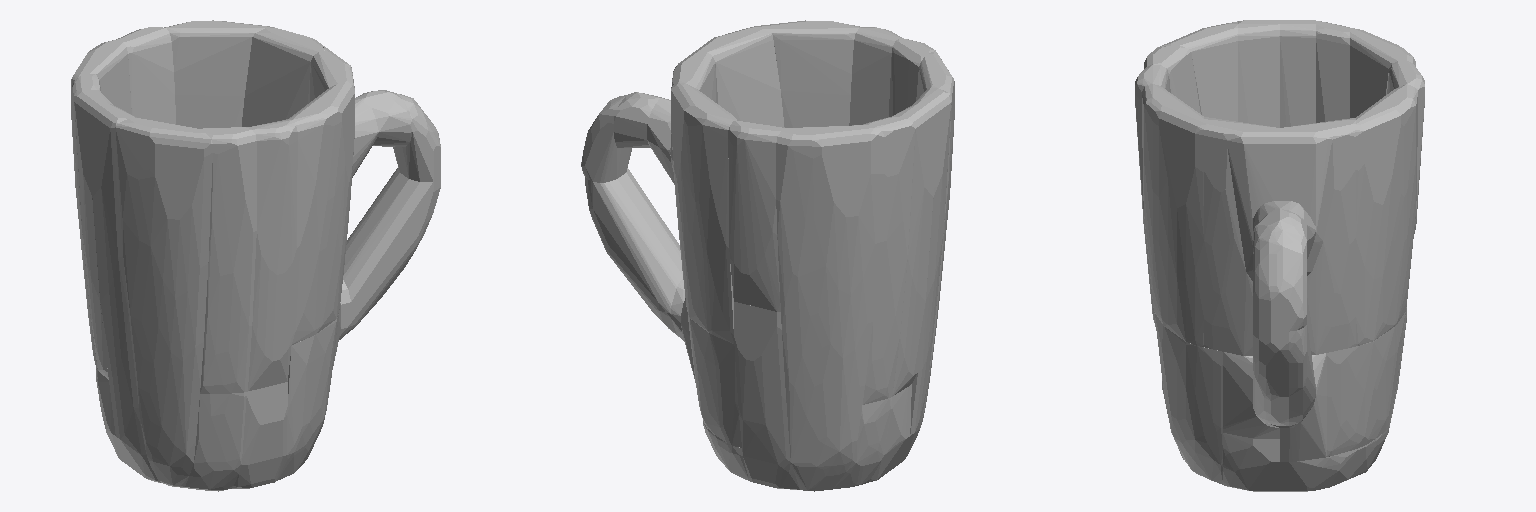
robot.urdf — root:
<robot name="root">
  <link name="body">
    <visual>
      <origin xyz="0 0 0" rpy="0 0 0"/>
      <geometry>
        <mesh filename="coacd_convex_piece_0.obj" scale="1.0000E+00 1.0000E+00 1.0000E+00"/>
      </geometry>
      <material name="">
        <color rgba="7.50E-01 7.50E-01 7.50E-01 1"/>
      </material>
    </visual>
    <collision>
      <origin xyz="0 0 0" rpy="0 0 0"/>
      <geometry>
        <mesh filename="coacd_convex_piece_0.obj" scale="1.0000E+00 1.0000E+00 1.0000E+00"/>
      </geometry>
    </collision>
    <visual>
      <origin xyz="0 0 0" rpy="0 0 0"/>
      <geometry>
        <mesh filename="coacd_convex_piece_1.obj" scale="1.0000E+00 1.0000E+00 1.0000E+00"/>
      </geometry>
      <material name="">
        <color rgba="7.50E-01 7.50E-01 7.50E-01 1"/>
      </material>
    </visual>
    <collision>
      <origin xyz="0 0 0" rpy="0 0 0"/>
      <geometry>
        <mesh filename="coacd_convex_piece_1.obj" scale="1.0000E+00 1.0000E+00 1.0000E+00"/>
      </geometry>
    </collision>
    <visual>
      <origin xyz="0 0 0" rpy="0 0 0"/>
      <geometry>
        <mesh filename="coacd_convex_piece_2.obj" scale="1.0000E+00 1.0000E+00 1.0000E+00"/>
      </geometry>
      <material name="">
        <color rgba="7.50E-01 7.50E-01 7.50E-01 1"/>
      </material>
    </visual>
    <collision>
      <origin xyz="0 0 0" rpy="0 0 0"/>
      <geometry>
        <mesh filename="coacd_convex_piece_2.obj" scale="1.0000E+00 1.0000E+00 1.0000E+00"/>
      </geometry>
    </collision>
    <visual>
      <origin xyz="0 0 0" rpy="0 0 0"/>
      <geometry>
        <mesh filename="coacd_convex_piece_3.obj" scale="1.0000E+00 1.0000E+00 1.0000E+00"/>
      </geometry>
      <material name="">
        <color rgba="7.50E-01 7.50E-01 7.50E-01 1"/>
      </material>
    </visual>
    <collision>
      <origin xyz="0 0 0" rpy="0 0 0"/>
      <geometry>
        <mesh filename="coacd_convex_piece_3.obj" scale="1.0000E+00 1.0000E+00 1.0000E+00"/>
      </geometry>
    </collision>
    <visual>
      <origin xyz="0 0 0" rpy="0 0 0"/>
      <geometry>
        <mesh filename="coacd_convex_piece_4.obj" scale="1.0000E+00 1.0000E+00 1.0000E+00"/>
      </geometry>
      <material name="">
        <color rgba="7.50E-01 7.50E-01 7.50E-01 1"/>
      </material>
    </visual>
    <collision>
      <origin xyz="0 0 0" rpy="0 0 0"/>
      <geometry>
        <mesh filename="coacd_convex_piece_4.obj" scale="1.0000E+00 1.0000E+00 1.0000E+00"/>
      </geometry>
    </collision>
    <visual>
      <origin xyz="0 0 0" rpy="0 0 0"/>
      <geometry>
        <mesh filename="coacd_convex_piece_5.obj" scale="1.0000E+00 1.0000E+00 1.0000E+00"/>
      </geometry>
      <material name="">
        <color rgba="7.50E-01 7.50E-01 7.50E-01 1"/>
      </material>
    </visual>
    <collision>
      <origin xyz="0 0 0" rpy="0 0 0"/>
      <geometry>
        <mesh filename="coacd_convex_piece_5.obj" scale="1.0000E+00 1.0000E+00 1.0000E+00"/>
      </geometry>
    </collision>
    <visual>
      <origin xyz="0 0 0" rpy="0 0 0"/>
      <geometry>
        <mesh filename="coacd_convex_piece_6.obj" scale="1.0000E+00 1.0000E+00 1.0000E+00"/>
      </geometry>
      <material name="">
        <color rgba="7.50E-01 7.50E-01 7.50E-01 1"/>
      </material>
    </visual>
    <collision>
      <origin xyz="0 0 0" rpy="0 0 0"/>
      <geometry>
        <mesh filename="coacd_convex_piece_6.obj" scale="1.0000E+00 1.0000E+00 1.0000E+00"/>
      </geometry>
    </collision>
    <visual>
      <origin xyz="0 0 0" rpy="0 0 0"/>
      <geometry>
        <mesh filename="coacd_convex_piece_7.obj" scale="1.0000E+00 1.0000E+00 1.0000E+00"/>
      </geometry>
      <material name="">
        <color rgba="7.50E-01 7.50E-01 7.50E-01 1"/>
      </material>
    </visual>
    <collision>
      <origin xyz="0 0 0" rpy="0 0 0"/>
      <geometry>
        <mesh filename="coacd_convex_piece_7.obj" scale="1.0000E+00 1.0000E+00 1.0000E+00"/>
      </geometry>
    </collision>
    <visual>
      <origin xyz="0 0 0" rpy="0 0 0"/>
      <geometry>
        <mesh filename="coacd_convex_piece_8.obj" scale="1.0000E+00 1.0000E+00 1.0000E+00"/>
      </geometry>
      <material name="">
        <color rgba="7.50E-01 7.50E-01 7.50E-01 1"/>
      </material>
    </visual>
    <collision>
      <origin xyz="0 0 0" rpy="0 0 0"/>
      <geometry>
        <mesh filename="coacd_convex_piece_8.obj" scale="1.0000E+00 1.0000E+00 1.0000E+00"/>
      </geometry>
    </collision>
    <visual>
      <origin xyz="0 0 0" rpy="0 0 0"/>
      <geometry>
        <mesh filename="coacd_convex_piece_9.obj" scale="1.0000E+00 1.0000E+00 1.0000E+00"/>
      </geometry>
      <material name="">
        <color rgba="7.50E-01 7.50E-01 7.50E-01 1"/>
      </material>
    </visual>
    <collision>
      <origin xyz="0 0 0" rpy="0 0 0"/>
      <geometry>
        <mesh filename="coacd_convex_piece_9.obj" scale="1.0000E+00 1.0000E+00 1.0000E+00"/>
      </geometry>
    </collision>
    <visual>
      <origin xyz="0 0 0" rpy="0 0 0"/>
      <geometry>
        <mesh filename="coacd_convex_piece_10.obj" scale="1.0000E+00 1.0000E+00 1.0000E+00"/>
      </geometry>
      <material name="">
        <color rgba="7.50E-01 7.50E-01 7.50E-01 1"/>
      </material>
    </visual>
    <collision>
      <origin xyz="0 0 0" rpy="0 0 0"/>
      <geometry>
        <mesh filename="coacd_convex_piece_10.obj" scale="1.0000E+00 1.0000E+00 1.0000E+00"/>
      </geometry>
    </collision>
    <visual>
      <origin xyz="0 0 0" rpy="0 0 0"/>
      <geometry>
        <mesh filename="coacd_convex_piece_11.obj" scale="1.0000E+00 1.0000E+00 1.0000E+00"/>
      </geometry>
      <material name="">
        <color rgba="7.50E-01 7.50E-01 7.50E-01 1"/>
      </material>
    </visual>
    <collision>
      <origin xyz="0 0 0" rpy="0 0 0"/>
      <geometry>
        <mesh filename="coacd_convex_piece_11.obj" scale="1.0000E+00 1.0000E+00 1.0000E+00"/>
      </geometry>
    </collision>
    <visual>
      <origin xyz="0 0 0" rpy="0 0 0"/>
      <geometry>
        <mesh filename="coacd_convex_piece_12.obj" scale="1.0000E+00 1.0000E+00 1.0000E+00"/>
      </geometry>
      <material name="">
        <color rgba="7.50E-01 7.50E-01 7.50E-01 1"/>
      </material>
    </visual>
    <collision>
      <origin xyz="0 0 0" rpy="0 0 0"/>
      <geometry>
        <mesh filename="coacd_convex_piece_12.obj" scale="1.0000E+00 1.0000E+00 1.0000E+00"/>
      </geometry>
    </collision>
    <visual>
      <origin xyz="0 0 0" rpy="0 0 0"/>
      <geometry>
        <mesh filename="coacd_convex_piece_13.obj" scale="1.0000E+00 1.0000E+00 1.0000E+00"/>
      </geometry>
      <material name="">
        <color rgba="7.50E-01 7.50E-01 7.50E-01 1"/>
      </material>
    </visual>
    <collision>
      <origin xyz="0 0 0" rpy="0 0 0"/>
      <geometry>
        <mesh filename="coacd_convex_piece_13.obj" scale="1.0000E+00 1.0000E+00 1.0000E+00"/>
      </geometry>
    </collision>
    <visual>
      <origin xyz="0 0 0" rpy="0 0 0"/>
      <geometry>
        <mesh filename="coacd_convex_piece_14.obj" scale="1.0000E+00 1.0000E+00 1.0000E+00"/>
      </geometry>
      <material name="">
        <color rgba="7.50E-01 7.50E-01 7.50E-01 1"/>
      </material>
    </visual>
    <collision>
      <origin xyz="0 0 0" rpy="0 0 0"/>
      <geometry>
        <mesh filename="coacd_convex_piece_14.obj" scale="1.0000E+00 1.0000E+00 1.0000E+00"/>
      </geometry>
    </collision>
    <visual>
      <origin xyz="0 0 0" rpy="0 0 0"/>
      <geometry>
        <mesh filename="coacd_convex_piece_15.obj" scale="1.0000E+00 1.0000E+00 1.0000E+00"/>
      </geometry>
      <material name="">
        <color rgba="7.50E-01 7.50E-01 7.50E-01 1"/>
      </material>
    </visual>
    <collision>
      <origin xyz="0 0 0" rpy="0 0 0"/>
      <geometry>
        <mesh filename="coacd_convex_piece_15.obj" scale="1.0000E+00 1.0000E+00 1.0000E+00"/>
      </geometry>
    </collision>
    <visual>
      <origin xyz="0 0 0" rpy="0 0 0"/>
      <geometry>
        <mesh filename="coacd_convex_piece_16.obj" scale="1.0000E+00 1.0000E+00 1.0000E+00"/>
      </geometry>
      <material name="">
        <color rgba="7.50E-01 7.50E-01 7.50E-01 1"/>
      </material>
    </visual>
    <collision>
      <origin xyz="0 0 0" rpy="0 0 0"/>
      <geometry>
        <mesh filename="coacd_convex_piece_16.obj" scale="1.0000E+00 1.0000E+00 1.0000E+00"/>
      </geometry>
    </collision>
    <visual>
      <origin xyz="0 0 0" rpy="0 0 0"/>
      <geometry>
        <mesh filename="coacd_convex_piece_17.obj" scale="1.0000E+00 1.0000E+00 1.0000E+00"/>
      </geometry>
      <material name="">
        <color rgba="7.50E-01 7.50E-01 7.50E-01 1"/>
      </material>
    </visual>
    <collision>
      <origin xyz="0 0 0" rpy="0 0 0"/>
      <geometry>
        <mesh filename="coacd_convex_piece_17.obj" scale="1.0000E+00 1.0000E+00 1.0000E+00"/>
      </geometry>
    </collision>
    <visual>
      <origin xyz="0 0 0" rpy="0 0 0"/>
      <geometry>
        <mesh filename="coacd_convex_piece_18.obj" scale="1.0000E+00 1.0000E+00 1.0000E+00"/>
      </geometry>
      <material name="">
        <color rgba="7.50E-01 7.50E-01 7.50E-01 1"/>
      </material>
    </visual>
    <collision>
      <origin xyz="0 0 0" rpy="0 0 0"/>
      <geometry>
        <mesh filename="coacd_convex_piece_18.obj" scale="1.0000E+00 1.0000E+00 1.0000E+00"/>
      </geometry>
    </collision>
    <visual>
      <origin xyz="0 0 0" rpy="0 0 0"/>
      <geometry>
        <mesh filename="coacd_convex_piece_19.obj" scale="1.0000E+00 1.0000E+00 1.0000E+00"/>
      </geometry>
      <material name="">
        <color rgba="7.50E-01 7.50E-01 7.50E-01 1"/>
      </material>
    </visual>
    <collision>
      <origin xyz="0 0 0" rpy="0 0 0"/>
      <geometry>
        <mesh filename="coacd_convex_piece_19.obj" scale="1.0000E+00 1.0000E+00 1.0000E+00"/>
      </geometry>
    </collision>
    <visual>
      <origin xyz="0 0 0" rpy="0 0 0"/>
      <geometry>
        <mesh filename="coacd_convex_piece_20.obj" scale="1.0000E+00 1.0000E+00 1.0000E+00"/>
      </geometry>
      <material name="">
        <color rgba="7.50E-01 7.50E-01 7.50E-01 1"/>
      </material>
    </visual>
    <collision>
      <origin xyz="0 0 0" rpy="0 0 0"/>
      <geometry>
        <mesh filename="coacd_convex_piece_20.obj" scale="1.0000E+00 1.0000E+00 1.0000E+00"/>
      </geometry>
    </collision>
    <visual>
      <origin xyz="0 0 0" rpy="0 0 0"/>
      <geometry>
        <mesh filename="coacd_convex_piece_21.obj" scale="1.0000E+00 1.0000E+00 1.0000E+00"/>
      </geometry>
      <material name="">
        <color rgba="7.50E-01 7.50E-01 7.50E-01 1"/>
      </material>
    </visual>
    <collision>
      <origin xyz="0 0 0" rpy="0 0 0"/>
      <geometry>
        <mesh filename="coacd_convex_piece_21.obj" scale="1.0000E+00 1.0000E+00 1.0000E+00"/>
      </geometry>
    </collision>
    <visual>
      <origin xyz="0 0 0" rpy="0 0 0"/>
      <geometry>
        <mesh filename="coacd_convex_piece_22.obj" scale="1.0000E+00 1.0000E+00 1.0000E+00"/>
      </geometry>
      <material name="">
        <color rgba="7.50E-01 7.50E-01 7.50E-01 1"/>
      </material>
    </visual>
    <collision>
      <origin xyz="0 0 0" rpy="0 0 0"/>
      <geometry>
        <mesh filename="coacd_convex_piece_22.obj" scale="1.0000E+00 1.0000E+00 1.0000E+00"/>
      </geometry>
    </collision>
    <visual>
      <origin xyz="0 0 0" rpy="0 0 0"/>
      <geometry>
        <mesh filename="coacd_convex_piece_23.obj" scale="1.0000E+00 1.0000E+00 1.0000E+00"/>
      </geometry>
      <material name="">
        <color rgba="7.50E-01 7.50E-01 7.50E-01 1"/>
      </material>
    </visual>
    <collision>
      <origin xyz="0 0 0" rpy="0 0 0"/>
      <geometry>
        <mesh filename="coacd_convex_piece_23.obj" scale="1.0000E+00 1.0000E+00 1.0000E+00"/>
      </geometry>
    </collision>
    <visual>
      <origin xyz="0 0 0" rpy="0 0 0"/>
      <geometry>
        <mesh filename="coacd_convex_piece_24.obj" scale="1.0000E+00 1.0000E+00 1.0000E+00"/>
      </geometry>
      <material name="">
        <color rgba="7.50E-01 7.50E-01 7.50E-01 1"/>
      </material>
    </visual>
    <collision>
      <origin xyz="0 0 0" rpy="0 0 0"/>
      <geometry>
        <mesh filename="coacd_convex_piece_24.obj" scale="1.0000E+00 1.0000E+00 1.0000E+00"/>
      </geometry>
    </collision>
    <visual>
      <origin xyz="0 0 0" rpy="0 0 0"/>
      <geometry>
        <mesh filename="coacd_convex_piece_25.obj" scale="1.0000E+00 1.0000E+00 1.0000E+00"/>
      </geometry>
      <material name="">
        <color rgba="7.50E-01 7.50E-01 7.50E-01 1"/>
      </material>
    </visual>
    <collision>
      <origin xyz="0 0 0" rpy="0 0 0"/>
      <geometry>
        <mesh filename="coacd_convex_piece_25.obj" scale="1.0000E+00 1.0000E+00 1.0000E+00"/>
      </geometry>
    </collision>
    <visual>
      <origin xyz="0 0 0" rpy="0 0 0"/>
      <geometry>
        <mesh filename="coacd_convex_piece_26.obj" scale="1.0000E+00 1.0000E+00 1.0000E+00"/>
      </geometry>
      <material name="">
        <color rgba="7.50E-01 7.50E-01 7.50E-01 1"/>
      </material>
    </visual>
    <collision>
      <origin xyz="0 0 0" rpy="0 0 0"/>
      <geometry>
        <mesh filename="coacd_convex_piece_26.obj" scale="1.0000E+00 1.0000E+00 1.0000E+00"/>
      </geometry>
    </collision>
    <visual>
      <origin xyz="0 0 0" rpy="0 0 0"/>
      <geometry>
        <mesh filename="coacd_convex_piece_27.obj" scale="1.0000E+00 1.0000E+00 1.0000E+00"/>
      </geometry>
      <material name="">
        <color rgba="7.50E-01 7.50E-01 7.50E-01 1"/>
      </material>
    </visual>
    <collision>
      <origin xyz="0 0 0" rpy="0 0 0"/>
      <geometry>
        <mesh filename="coacd_convex_piece_27.obj" scale="1.0000E+00 1.0000E+00 1.0000E+00"/>
      </geometry>
    </collision>
    <visual>
      <origin xyz="0 0 0" rpy="0 0 0"/>
      <geometry>
        <mesh filename="coacd_convex_piece_28.obj" scale="1.0000E+00 1.0000E+00 1.0000E+00"/>
      </geometry>
      <material name="">
        <color rgba="7.50E-01 7.50E-01 7.50E-01 1"/>
      </material>
    </visual>
    <collision>
      <origin xyz="0 0 0" rpy="0 0 0"/>
      <geometry>
        <mesh filename="coacd_convex_piece_28.obj" scale="1.0000E+00 1.0000E+00 1.0000E+00"/>
      </geometry>
    </collision>
    <visual>
      <origin xyz="0 0 0" rpy="0 0 0"/>
      <geometry>
        <mesh filename="coacd_convex_piece_29.obj" scale="1.0000E+00 1.0000E+00 1.0000E+00"/>
      </geometry>
      <material name="">
        <color rgba="7.50E-01 7.50E-01 7.50E-01 1"/>
      </material>
    </visual>
    <collision>
      <origin xyz="0 0 0" rpy="0 0 0"/>
      <geometry>
        <mesh filename="coacd_convex_piece_29.obj" scale="1.0000E+00 1.0000E+00 1.0000E+00"/>
      </geometry>
    </collision>
    <visual>
      <origin xyz="0 0 0" rpy="0 0 0"/>
      <geometry>
        <mesh filename="coacd_convex_piece_30.obj" scale="1.0000E+00 1.0000E+00 1.0000E+00"/>
      </geometry>
      <material name="">
        <color rgba="7.50E-01 7.50E-01 7.50E-01 1"/>
      </material>
    </visual>
    <collision>
      <origin xyz="0 0 0" rpy="0 0 0"/>
      <geometry>
        <mesh filename="coacd_convex_piece_30.obj" scale="1.0000E+00 1.0000E+00 1.0000E+00"/>
      </geometry>
    </collision>
    <visual>
      <origin xyz="0 0 0" rpy="0 0 0"/>
      <geometry>
        <mesh filename="coacd_convex_piece_31.obj" scale="1.0000E+00 1.0000E+00 1.0000E+00"/>
      </geometry>
      <material name="">
        <color rgba="7.50E-01 7.50E-01 7.50E-01 1"/>
      </material>
    </visual>
    <collision>
      <origin xyz="0 0 0" rpy="0 0 0"/>
      <geometry>
        <mesh filename="coacd_convex_piece_31.obj" scale="1.0000E+00 1.0000E+00 1.0000E+00"/>
      </geometry>
    </collision>
    <visual>
      <origin xyz="0 0 0" rpy="0 0 0"/>
      <geometry>
        <mesh filename="coacd_convex_piece_32.obj" scale="1.0000E+00 1.0000E+00 1.0000E+00"/>
      </geometry>
      <material name="">
        <color rgba="7.50E-01 7.50E-01 7.50E-01 1"/>
      </material>
    </visual>
    <collision>
      <origin xyz="0 0 0" rpy="0 0 0"/>
      <geometry>
        <mesh filename="coacd_convex_piece_32.obj" scale="1.0000E+00 1.0000E+00 1.0000E+00"/>
      </geometry>
    </collision>
  </link>
</robot>

--- Render facts (derived) ---
The picture shows the robot from 3 angles, left to right: view 1: azimuth 30°, elevation 25°; view 2: azimuth 150°, elevation 25°; view 3: azimuth 270°, elevation 25°; orthographic projection.
Robot: root — 1 links, 0 joints (none); root link body; default pose: all joints at 0.
Visible links, largest first — view 1: body; view 2: body; view 3: body.
Boxes of the visible links, box(x1,y1,x2,y2) form: body: box(71, 20, 440, 491); body: box(581, 20, 954, 491); body: box(1135, 20, 1424, 491).
Size in the robot's own frame: 1.38 by 1 by 1.44 metres.
33 mesh visuals loaded from 33 distinct referenced files (33 OBJ).
